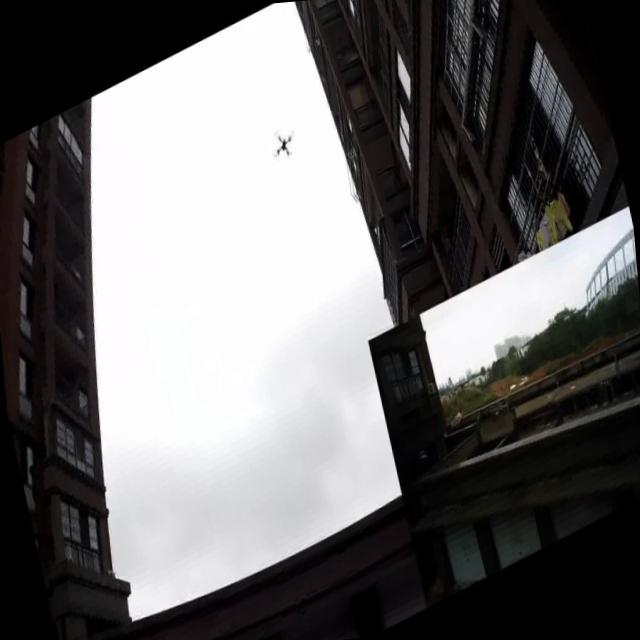drone: (266, 118, 301, 172)
